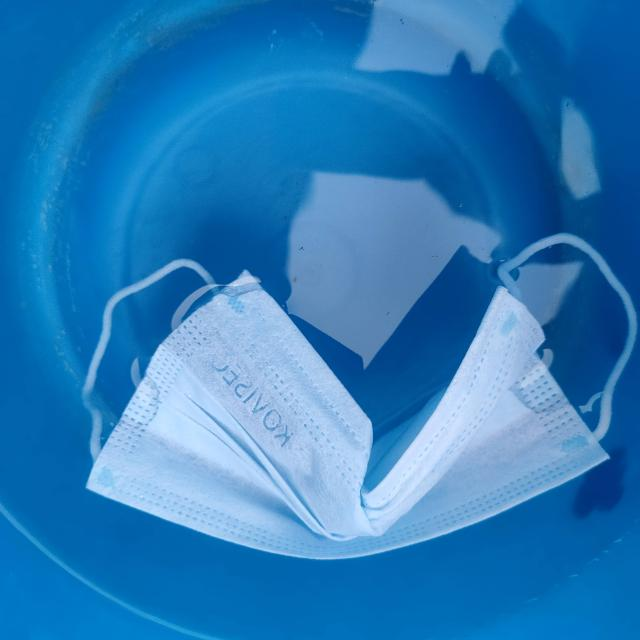mask: (65, 208, 640, 573)
